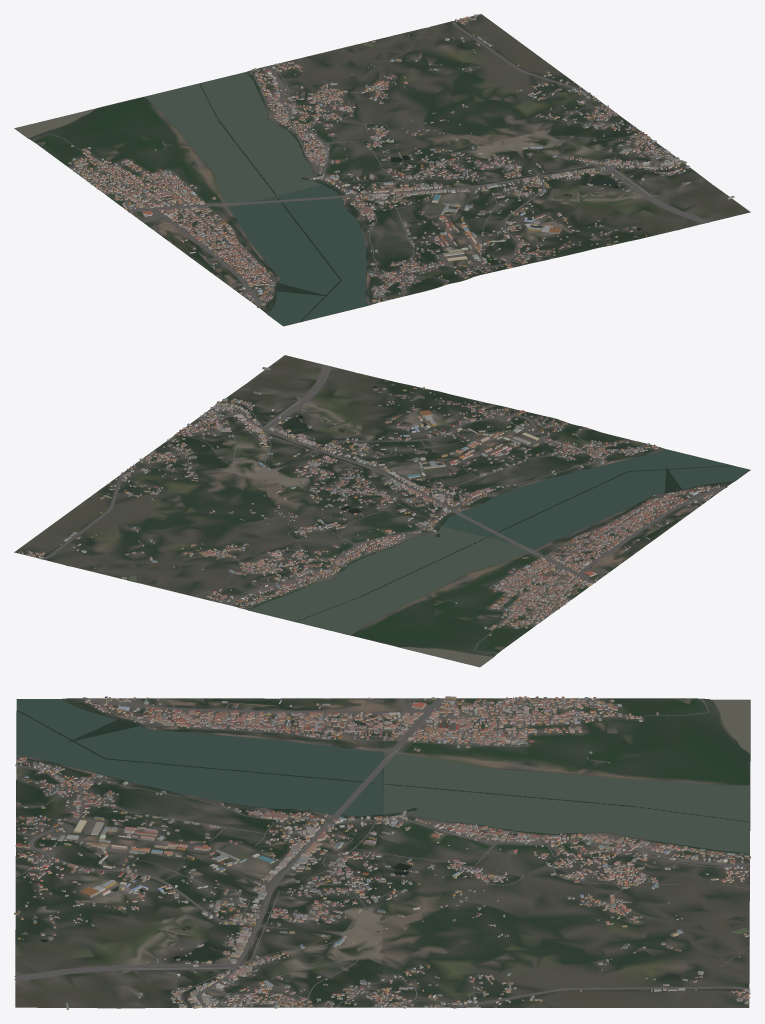
3 renders of one model, top to bottom at view 1: azimuth 30°, elevation 25°; view 2: azimuth 150°, elevation 25°; view 3: azimuth 270°, elevation 25°, orthographic. The views are drawn at different scales.
Visible parts, largest first — view 1: ground, water, buildings, roads; view 2: ground, water, buildings, roads; view 3: ground, water, buildings, roads.
Boxes of the visible parts, x1=… form: ground: x1=14, y1=14, x2=750, y2=326; water: x1=14, y1=41, x2=680, y2=325; buildings: x1=68, y1=14, x2=734, y2=305; roads: x1=32, y1=16, x2=710, y2=307; ground: x1=14, y1=355, x2=750, y2=667; water: x1=77, y1=386, x2=750, y2=666; buildings: x1=18, y1=367, x2=719, y2=635; roads: x1=24, y1=365, x2=727, y2=653; ground: x1=15, y1=698, x2=750, y2=1008; water: x1=16, y1=699, x2=750, y2=1006; buildings: x1=14, y1=696, x2=750, y2=1009; roads: x1=14, y1=697, x2=749, y2=1008.
Bounding box in the file's own units: 2821 × 29.62 × 2814.
